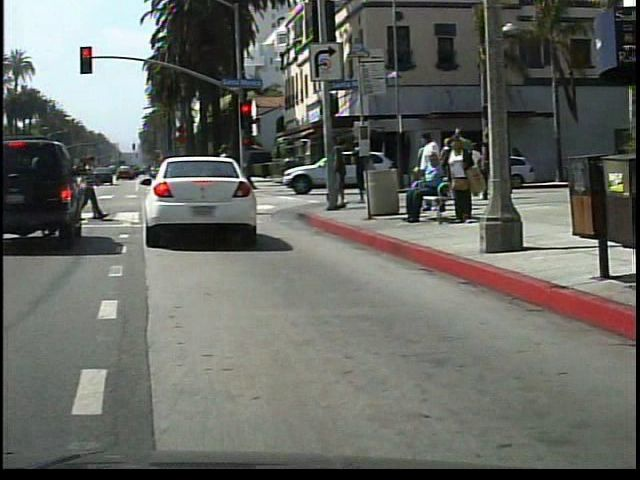person: (445, 131, 483, 230), (405, 152, 453, 226), (210, 139, 248, 219)
